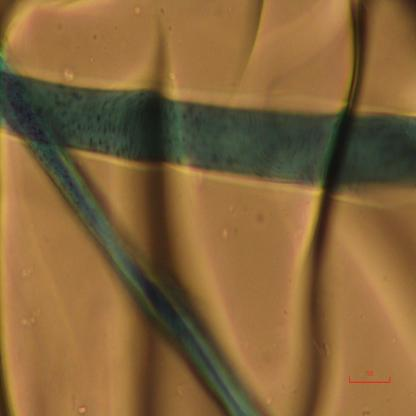Air bubble: (226, 1, 364, 111)
Background material: (266, 183, 342, 415), (116, 3, 186, 96), (0, 0, 39, 54)
Microfibre: (0, 51, 262, 416), (0, 67, 416, 204)
